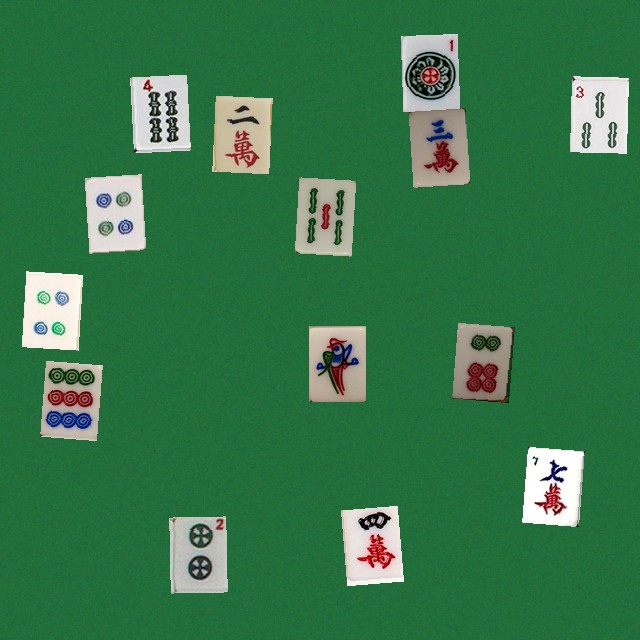tile: (130, 74, 187, 150), (400, 33, 457, 109), (452, 322, 509, 398), (569, 76, 626, 152), (169, 516, 226, 592), (84, 174, 141, 250), (522, 446, 579, 522), (308, 325, 365, 401), (408, 108, 465, 184), (294, 177, 351, 253), (40, 360, 97, 436), (21, 271, 78, 347), (340, 505, 397, 581), (212, 95, 269, 171)
